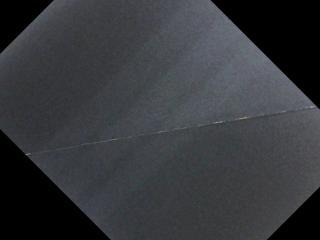crack: (24, 103, 318, 158)
